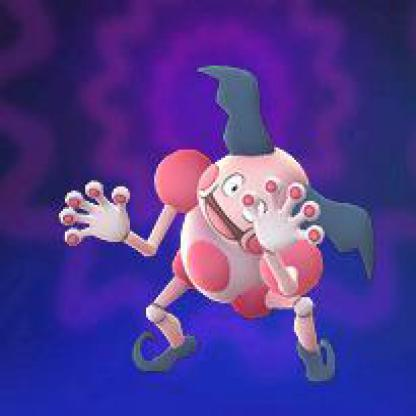Mr. Mime: (9, 1, 415, 415)
